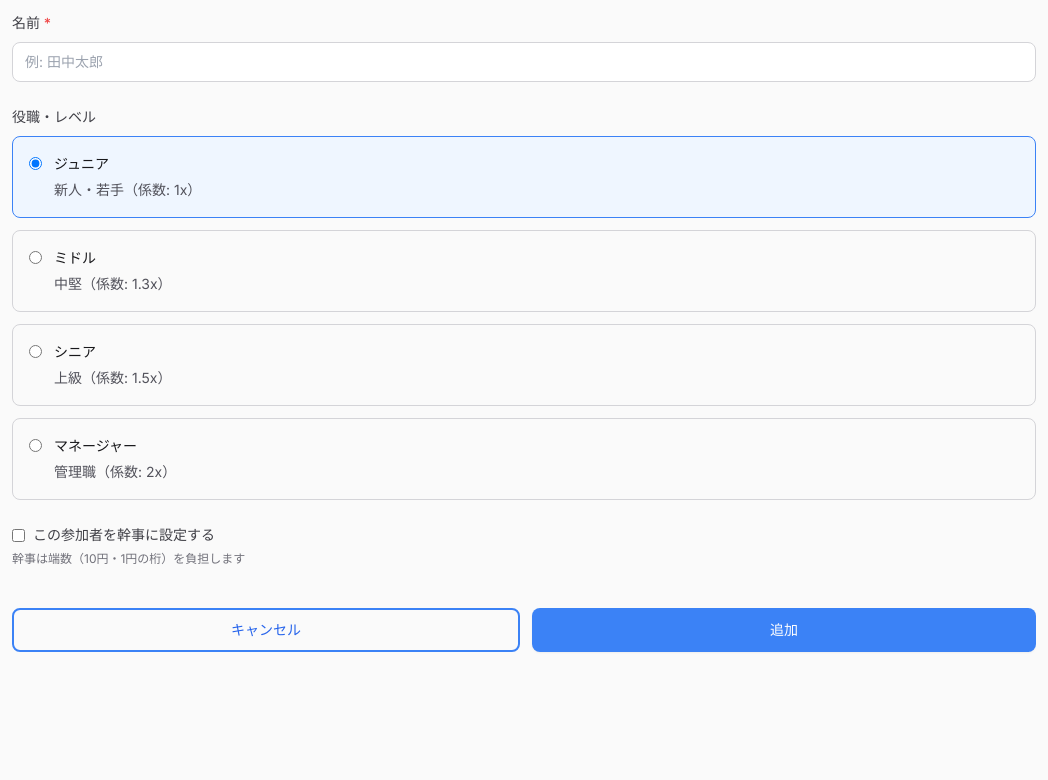
Test: AddParticipantForm › TC008-1: 名前が空の場合エラーを表示
What coordinates should you click on to do the following:
click the button "追加"
I would click on:
 (784, 630)
Its box is [532,608,1036,652].
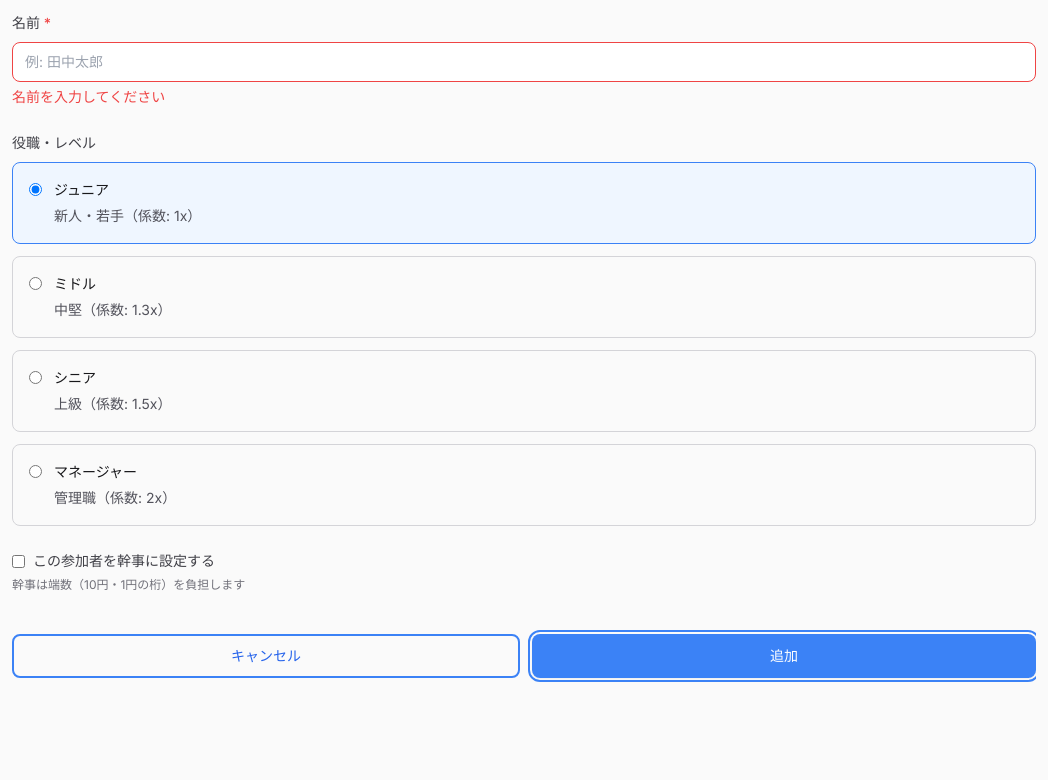
Result: the text "名前を入力してください" is shown at [12,88,165,105]
